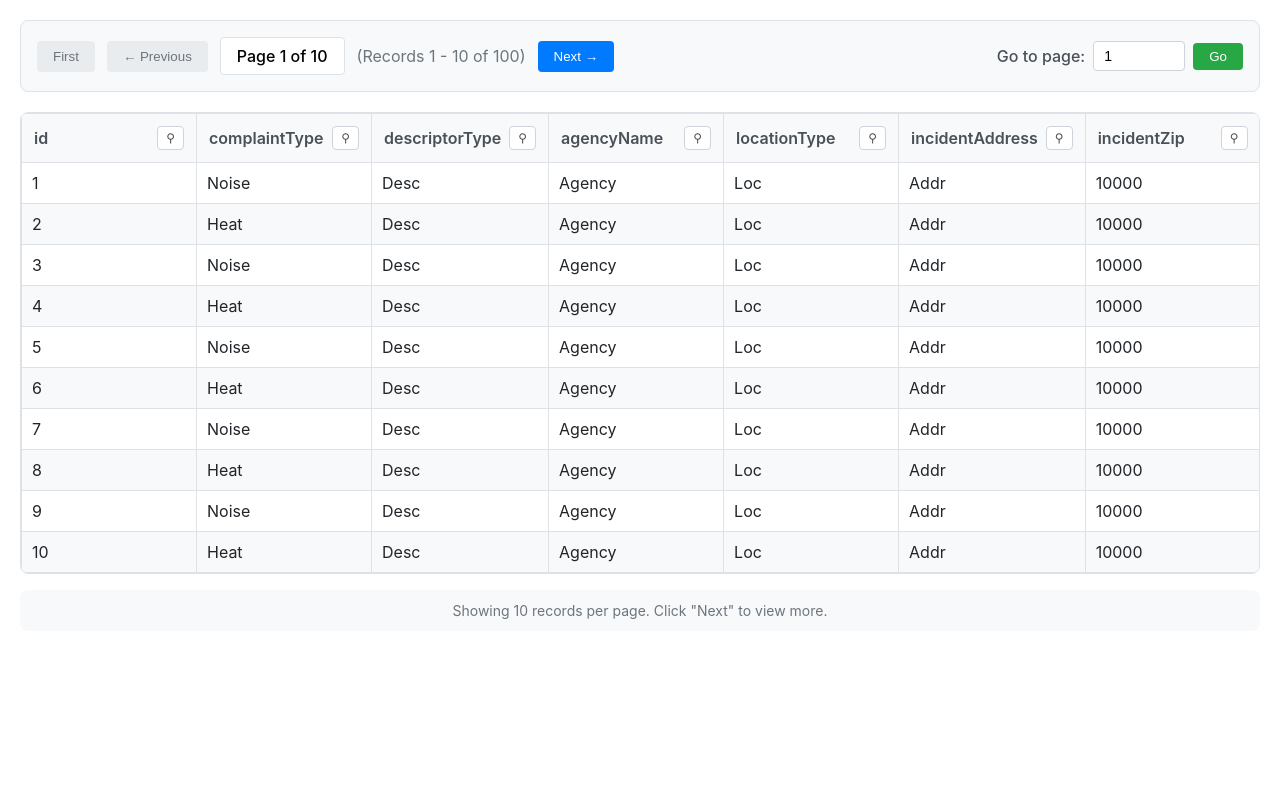
Test: ReportsTable Component › opens filter dropdown and loads values
Expected: the 1st text "Noise" is shown, [196,162,372,204]
Click the button "⚲" next to "complaintType": point(346, 138) [332,126,359,150]
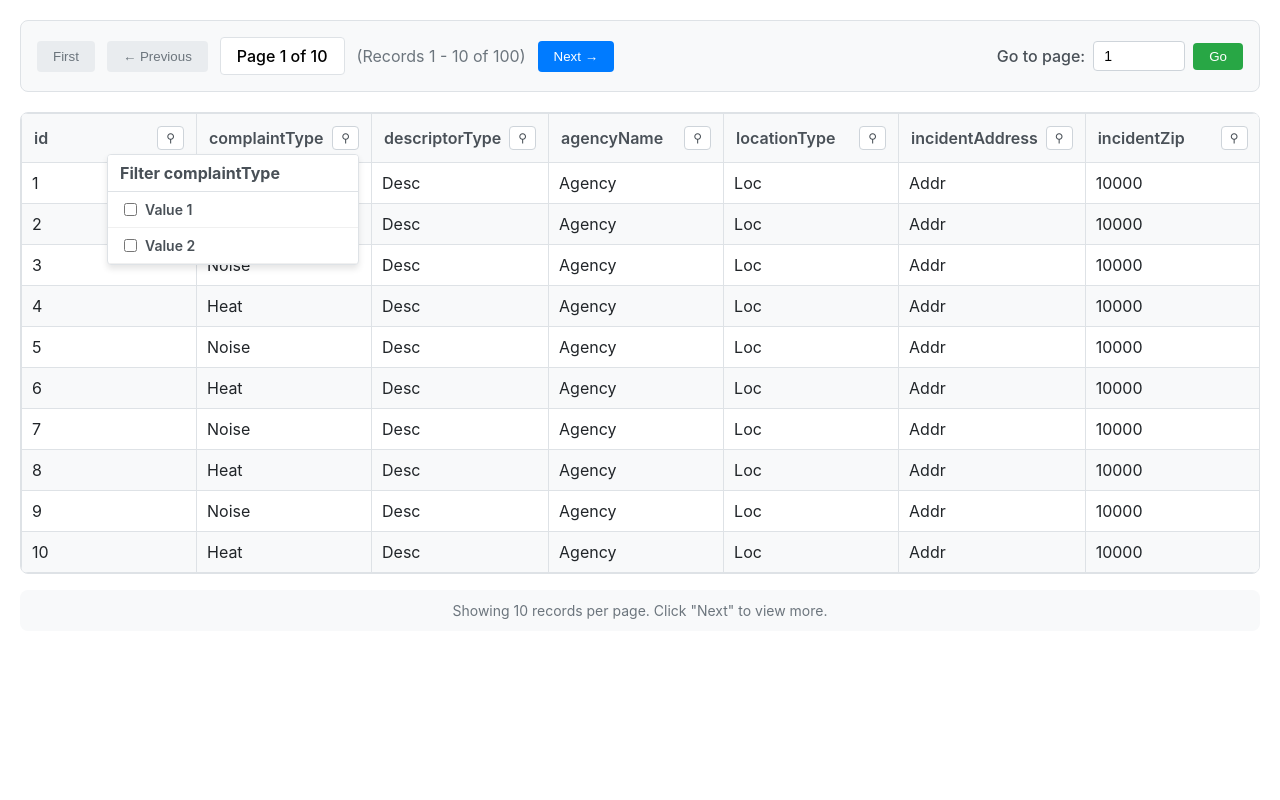
Now the text "Value 1" is shown, box [145,201,192,218]
Now the text "Value 2" is shown, box [145,237,195,254]
